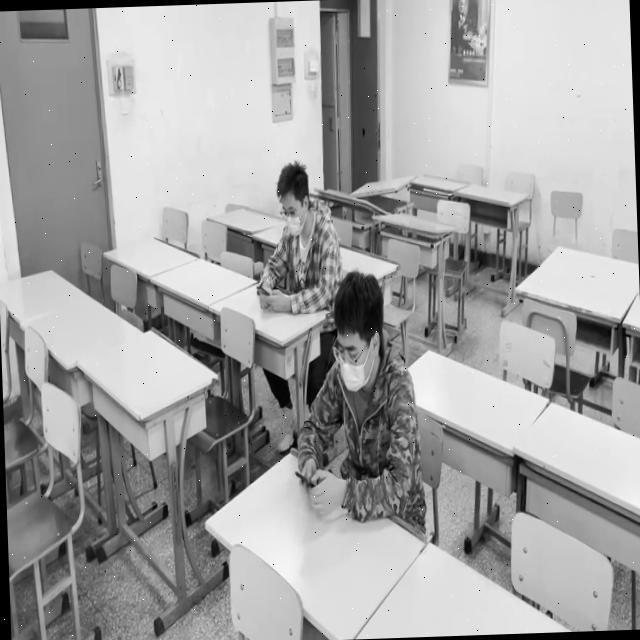phone: (294, 315, 421, 522), (252, 164, 331, 314)
